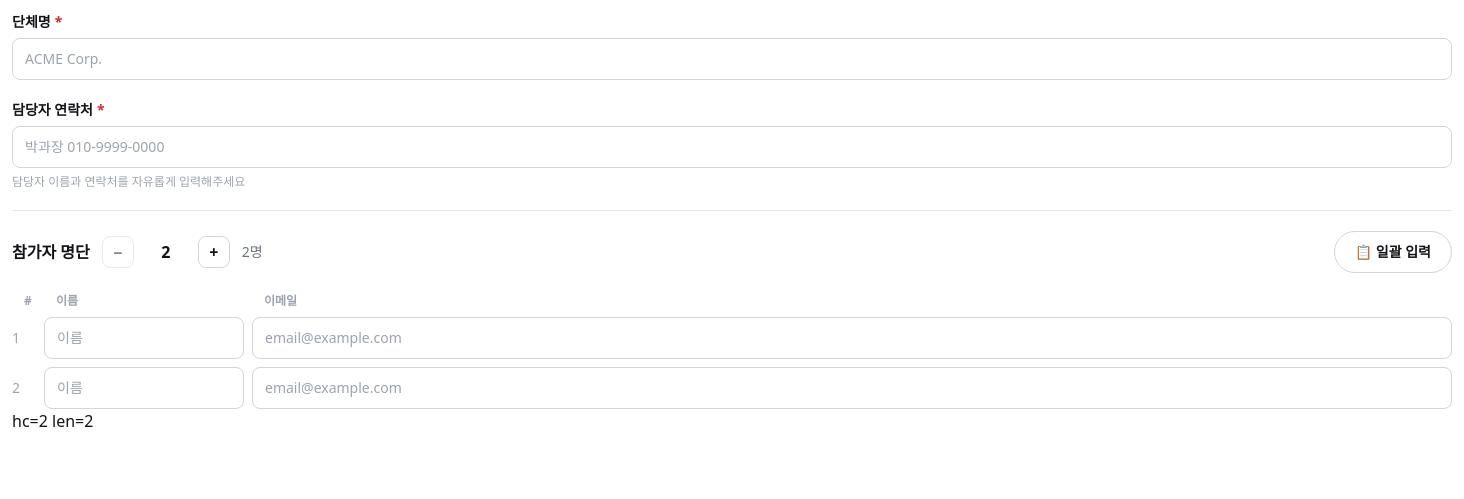
Test: GroupFields › Stepper + 클릭 시 headCount/participants 동기화 (증가)
Expected: the text with test id "spy" reads "hc=2 len=2", [12,410,93,432]
Click the button named "증가" at (214, 252), box [198,236,230,268]
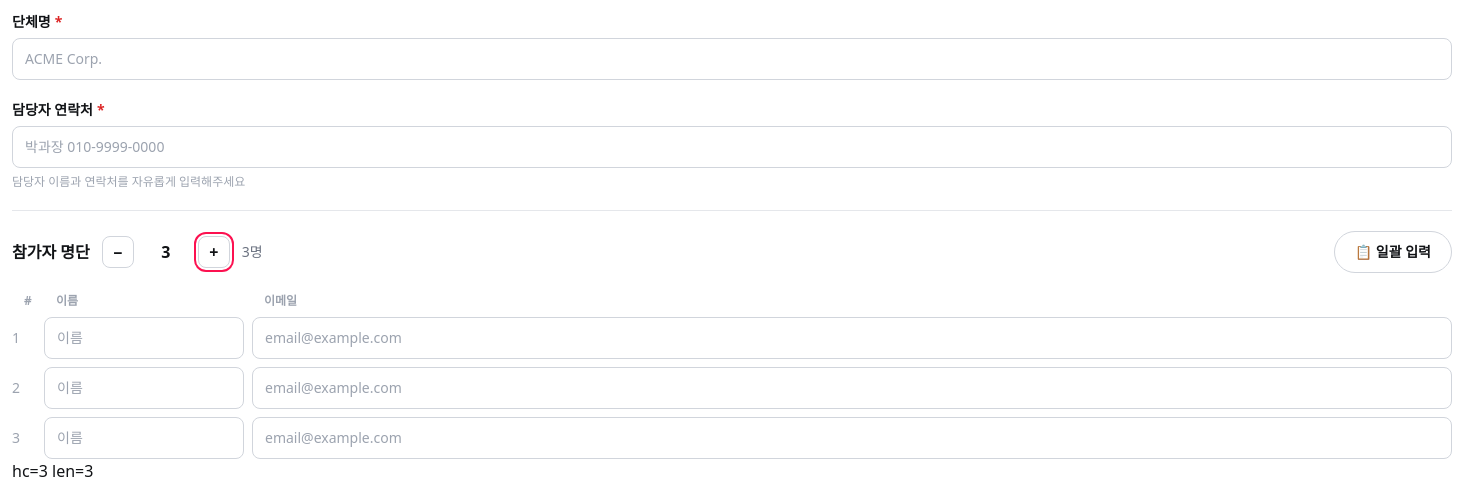
Result: the text with test id "spy" reads "hc=3 len=3" at [12,460,93,482]
